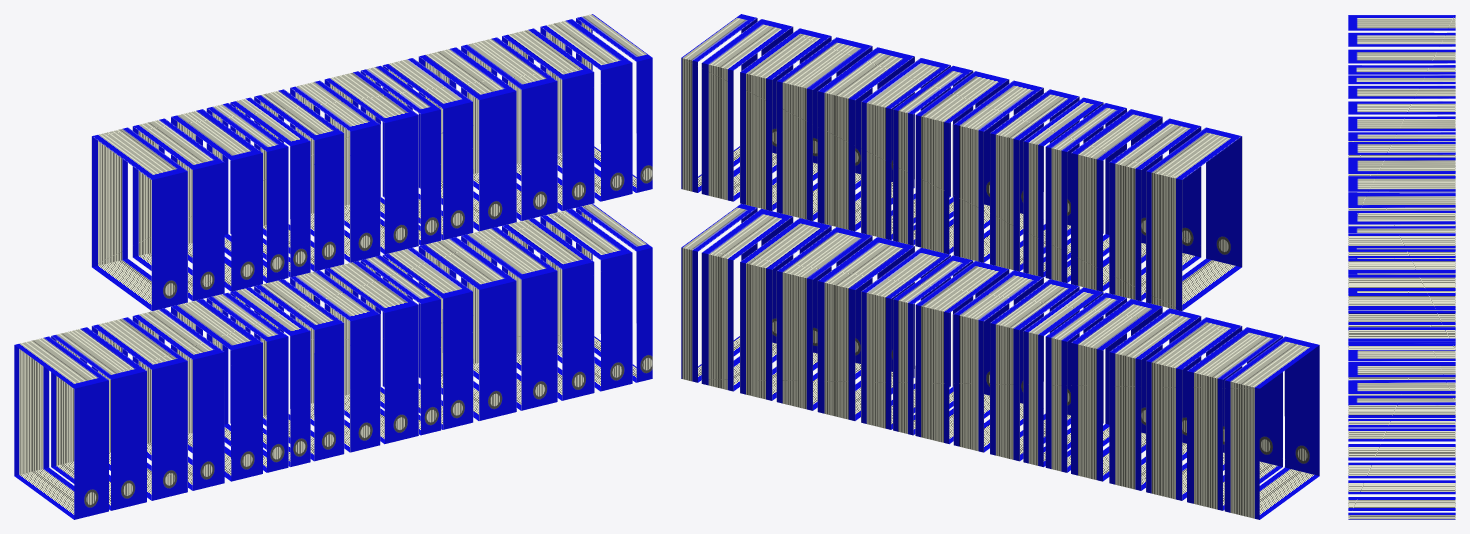
Rendered from files.fbx.
The picture shows the model from 3 angles, left to right: view 1: azimuth 30°, elevation 25°; view 2: azimuth 150°, elevation 25°; view 3: azimuth 270°, elevation 25°; orthographic projection. The views are drawn at different scales.
Visible parts, largest first — view 1: files2, files1; view 2: files2, files1; view 3: files1, files2.
Boxes of the visible parts, x1,y1,x2,y2 form: files2: (14, 204, 652, 519); files1: (91, 14, 652, 310); files2: (681, 204, 1319, 519); files1: (681, 14, 1242, 310); files1: (1348, 15, 1455, 350); files2: (1348, 191, 1455, 519).
Bounding box in the file's own units: 5.77 × 3.06 × 1.04.
